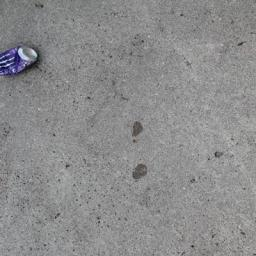FOD: (1, 44, 43, 81)
